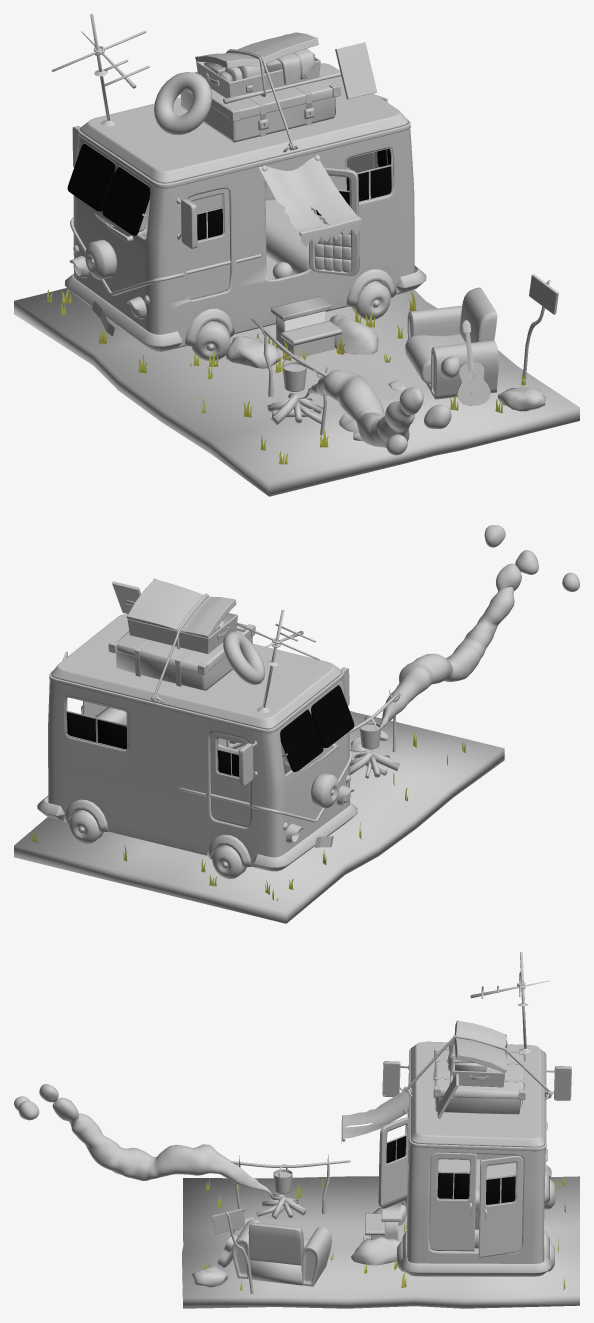
3 renders of one model, top to bottom at view 1: azimuth 30°, elevation 25°; view 2: azimuth 150°, elevation 25°; view 3: azimuth 270°, elevation 25°, orthographic. The views are drawn at different scales.
Parts seen in each view (by area): view 1: Box186, Box227, Object1212_2_steklo_0, Plane042, Plane028, Box187, Box185, Torus011, Box232, Cylinder049, Box245, Plane093 (+26 smaller); view 2: Box186, Box227, Plane042, Object1212_2_steklo_0, Box187, Box199, Box226, Box188, Box304, Object069_2_1_12_Material__0_0, Torus011, Box192 (+11 smaller); view 3: Box227, Box186, Plane042, Box224, Box225, Box187, Box236, Object075_2_1_12_Material__0_0, Object1212_2_steklo_0, Box199, Box207, Plane028 (+12 smaller).
Boxes of the visible parts, left/top/right/bottom form: Box186: left=73, top=63, right=414, bottom=351; Box227: left=14, top=288, right=579, bottom=496; Object1212_2_steklo_0: left=67, top=143, right=391, bottom=240; Plane042: left=298, top=356, right=460, bottom=455; Plane028: left=259, top=157, right=361, bottom=247; Box187: left=180, top=72, right=335, bottom=142; Box185: left=186, top=188, right=230, bottom=299; Torus011: left=154, top=72, right=211, bottom=134; Box232: left=431, top=340, right=498, bottom=399; Cylinder049: left=223, top=42, right=376, bottom=104; Box245: left=265, top=198, right=309, bottom=274; Plane093: left=43, top=289, right=526, bottom=464; Box186: left=48, top=614, right=349, bottom=867; Box227: left=14, top=711, right=504, bottom=923; Plane042: left=370, top=525, right=579, bottom=749; Object1212_2_steklo_0: left=67, top=685, right=354, bottom=776; Box187: left=116, top=623, right=252, bottom=690; Box199: left=127, top=579, right=236, bottom=638; Box226: left=210, top=732, right=249, bottom=826; Box188: left=127, top=612, right=237, bottom=653; Box304: left=49, top=669, right=343, bottom=733; Object069_2_1_12_Material__0_0: left=253, top=802, right=357, bottom=871; Torus011: left=223, top=631, right=265, bottom=684; Box192: left=239, top=667, right=349, bottom=785; Box227: left=182, top=1176, right=579, bottom=1308; Box186: left=407, top=1041, right=545, bottom=1263; Plane042: left=14, top=1084, right=278, bottom=1198; Box224: left=429, top=1152, right=476, bottom=1251; Box225: left=478, top=1155, right=523, bottom=1257; Box187: left=435, top=1049, right=524, bottom=1114; Box236: left=248, top=1222, right=304, bottom=1265; Object075_2_1_12_Material__0_0: left=400, top=1255, right=551, bottom=1276; Object1212_2_steklo_0: left=386, top=1136, right=515, bottom=1204; Box199: left=454, top=1021, right=506, bottom=1072; Box207: left=378, top=1117, right=408, bottom=1208; Plane028: left=341, top=1090, right=408, bottom=1143.
Bounding box in the file's own units: 61.04 × 58.57 × 120.
